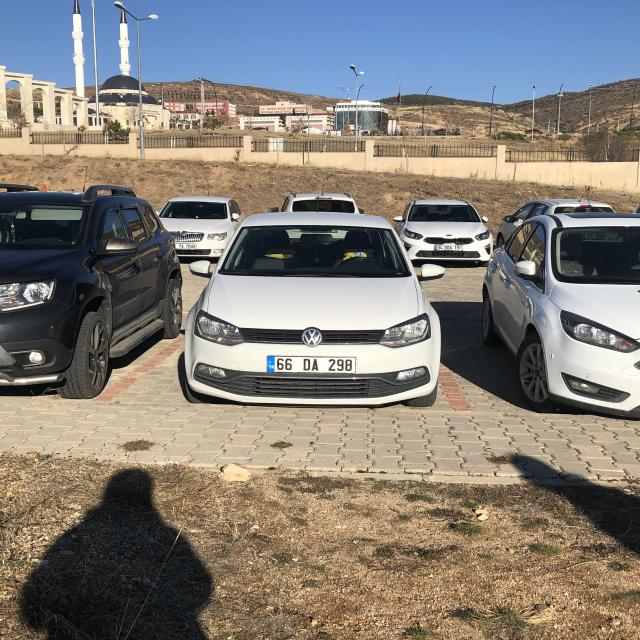license_plate: (268, 356, 356, 374)
